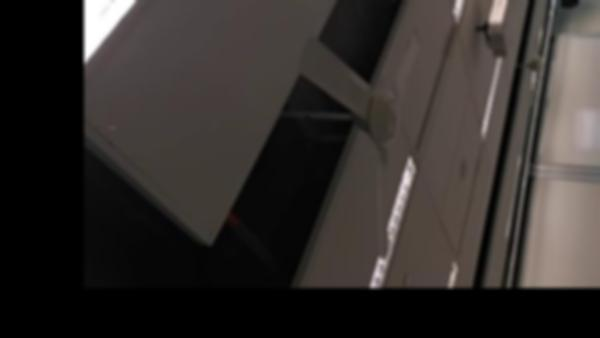light_on: (362, 149, 421, 288), (84, 0, 182, 78), (475, 50, 508, 149), (443, 0, 488, 24), (441, 253, 465, 288)
